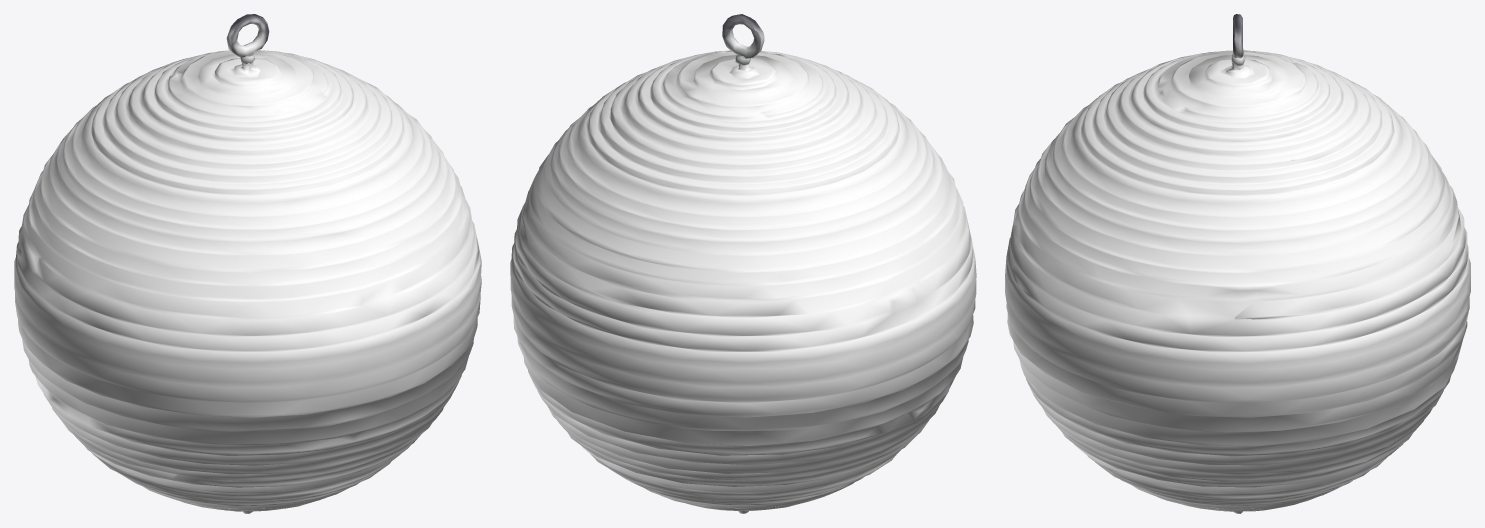
Rendered from DISCO_BALL_20InchesTall_RoofHeightMount__0222184554_texture.glb.
3 renders of one model, left to right at view 1: azimuth 30°, elevation 25°; view 2: azimuth 150°, elevation 25°; view 3: azimuth 270°, elevation 25°, orthographic.
Visible parts, largest first — view 1: Mesh_0; view 2: Mesh_0; view 3: Mesh_0.
Part boxes in pixels (<box>): Mesh_0: <box>14,14,481,513</box>; Mesh_0: <box>510,14,976,513</box>; Mesh_0: <box>1005,14,1470,513</box>.
Size of the model in its own units: 0.4308 by 0.508 by 0.4308.
Materials: 1 (1 with a texture image).
